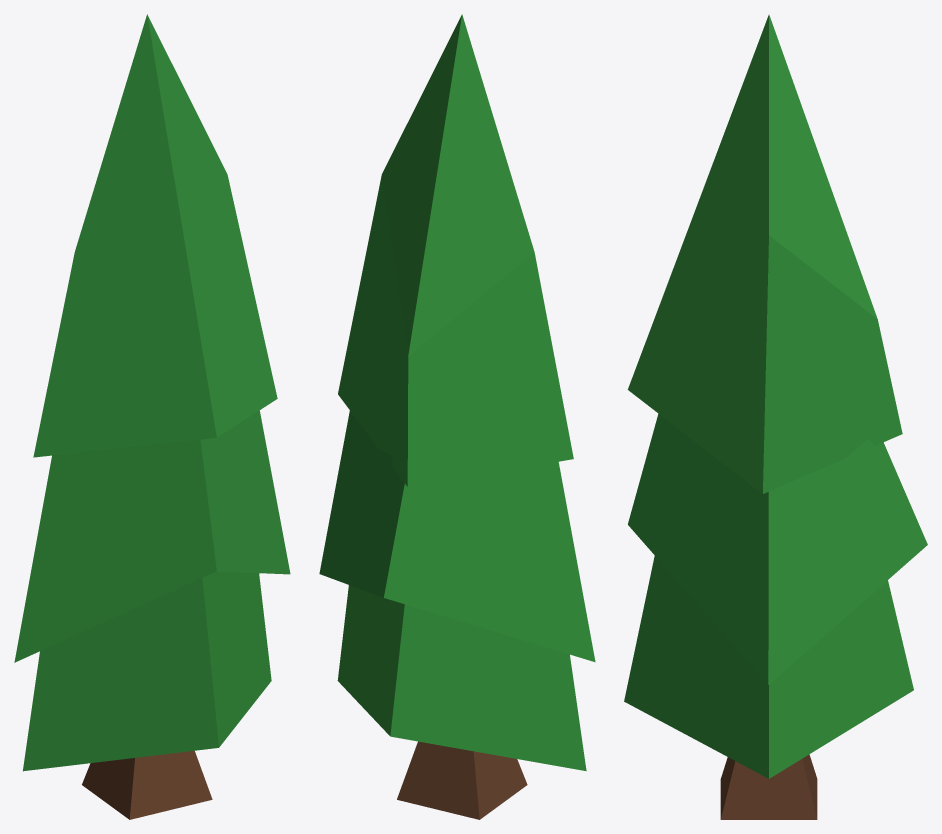
File: Tree_53_Green.fbx
3 views of the same model, side by side, from view 1: azimuth 30°, elevation 25°; view 2: azimuth 150°, elevation 25°; view 3: azimuth 270°, elevation 25° (orthographic).
Parts seen in each view (by area): view 1: Tree_53_Green_Part_1, Tree_53_Green_Part_2; view 2: Tree_53_Green_Part_1, Tree_53_Green_Part_2; view 3: Tree_53_Green_Part_1, Tree_53_Green_Part_2.
Boxes of the visible parts, bbox=[...] form: Tree_53_Green_Part_1: bbox=[14, 14, 290, 771]; Tree_53_Green_Part_2: bbox=[82, 751, 212, 819]; Tree_53_Green_Part_1: bbox=[319, 14, 595, 771]; Tree_53_Green_Part_2: bbox=[397, 741, 527, 819]; Tree_53_Green_Part_1: bbox=[624, 14, 927, 778]; Tree_53_Green_Part_2: bbox=[720, 754, 817, 819].
Bounding box in the file's own units: 222 × 598 × 210.
